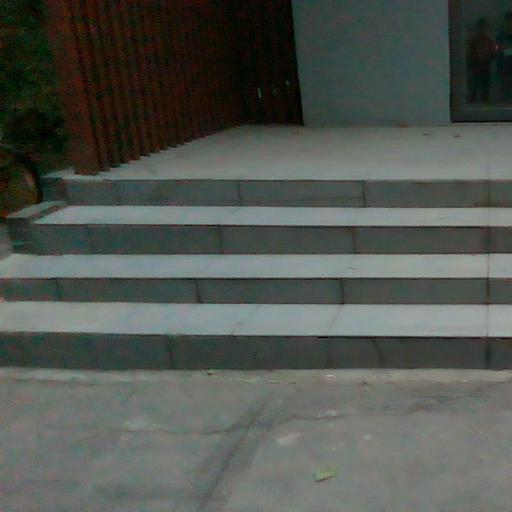stairs: (0, 171, 511, 368)
